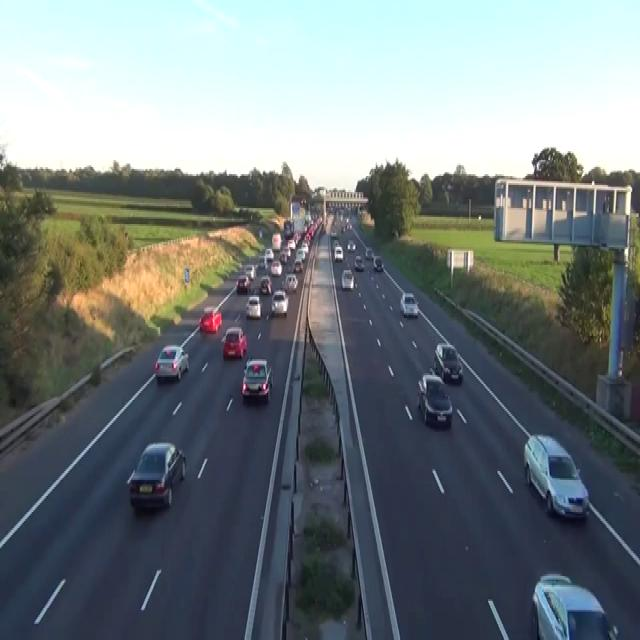Car: (523, 432, 589, 521), (531, 572, 618, 638), (126, 441, 186, 510), (417, 372, 452, 428), (241, 357, 273, 402), (432, 342, 463, 382), (154, 345, 189, 380), (222, 325, 247, 359), (198, 306, 222, 332), (271, 288, 289, 316), (399, 292, 418, 316), (245, 295, 262, 318), (340, 268, 356, 290), (282, 272, 298, 292), (235, 274, 250, 293), (259, 276, 272, 294), (270, 260, 282, 276), (244, 265, 256, 279), (334, 244, 343, 262), (373, 254, 383, 270), (354, 254, 364, 270), (293, 258, 303, 272), (341, 219, 352, 231), (264, 247, 274, 260), (293, 230, 301, 246), (257, 256, 267, 268), (296, 249, 306, 261), (346, 240, 356, 251), (278, 251, 287, 263), (365, 247, 373, 260), (284, 245, 291, 258), (203, 306, 214, 314), (287, 238, 295, 249), (300, 240, 308, 251), (304, 212, 311, 224), (344, 217, 351, 229), (332, 238, 339, 249), (330, 230, 337, 238), (302, 224, 307, 235), (300, 198, 306, 205), (258, 228, 262, 238), (341, 224, 345, 233)
Truck: (290, 199, 307, 235)
